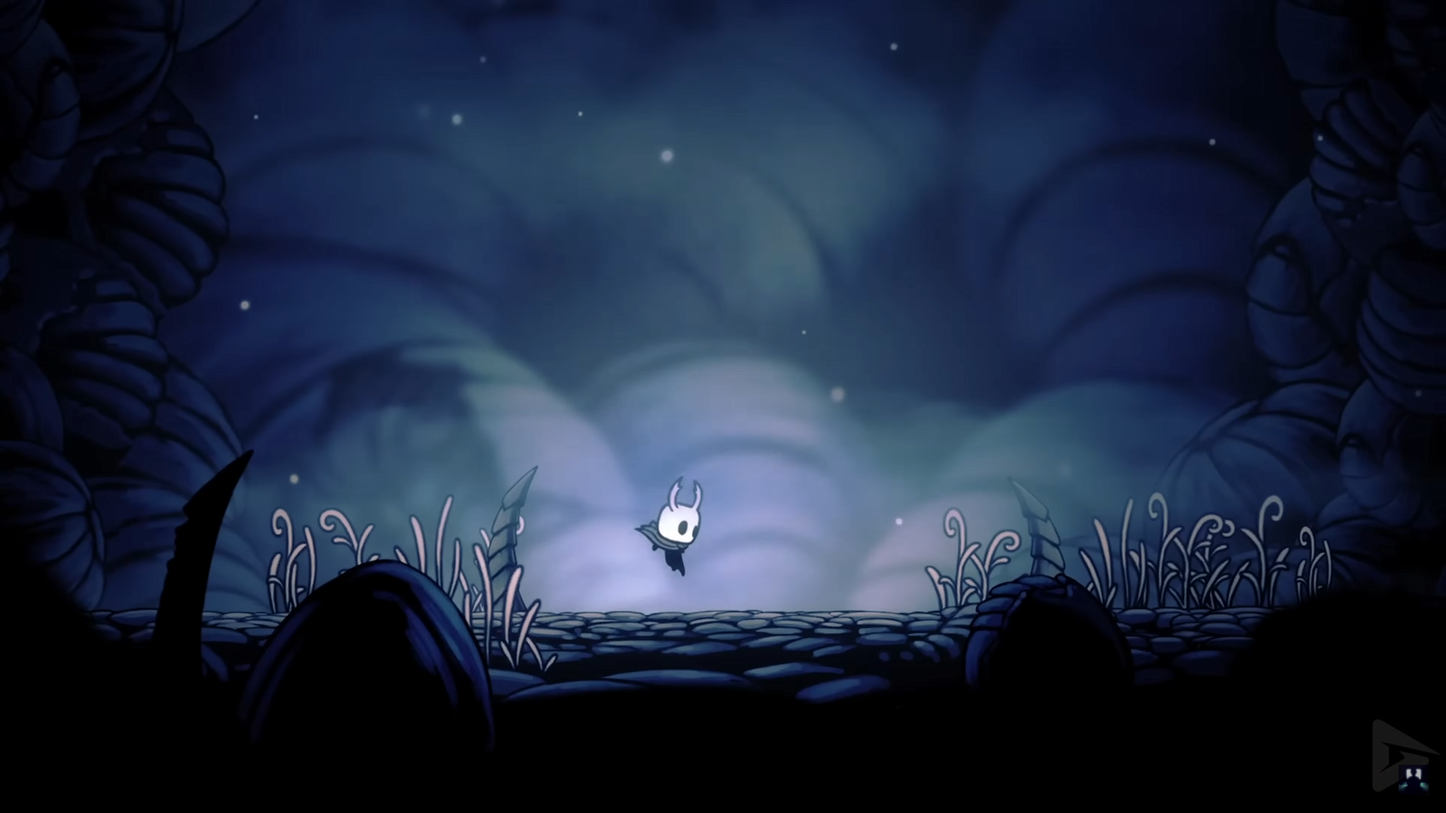HK: (645, 475, 708, 584)
